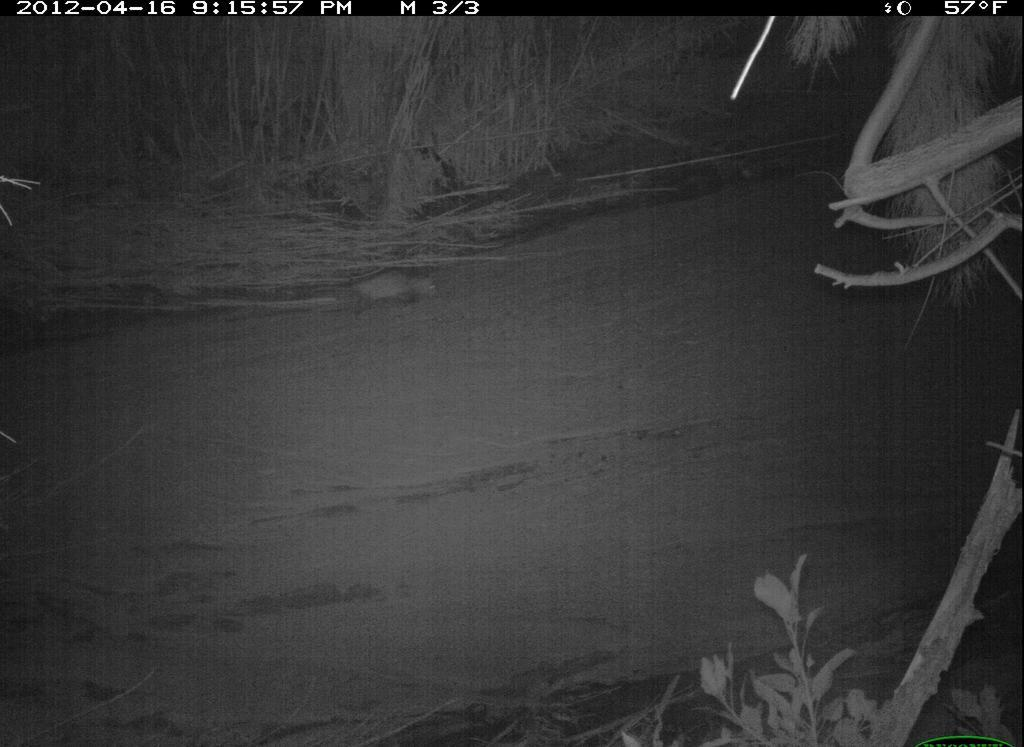opossum: (301, 258, 457, 323)
